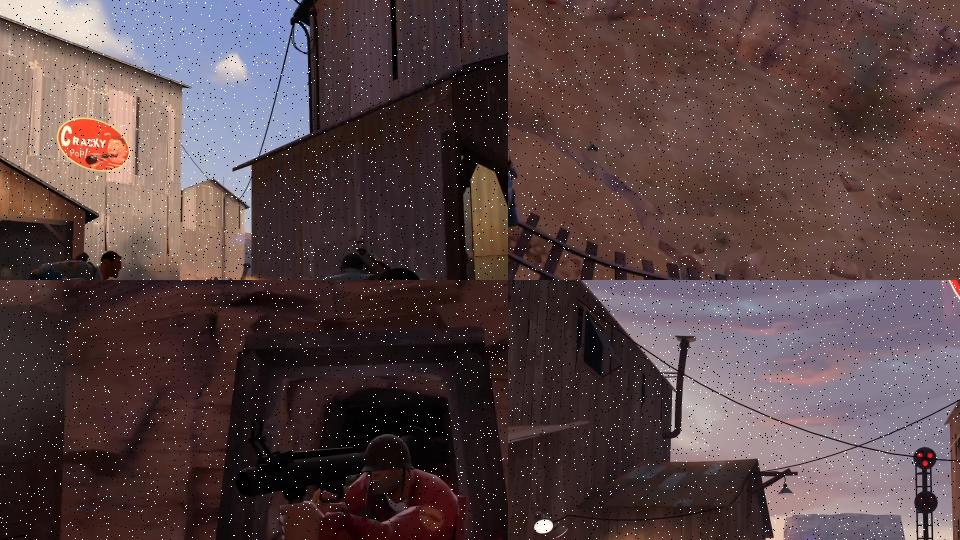Enemy: (230, 418, 501, 540), (309, 234, 426, 280), (508, 149, 521, 245)
